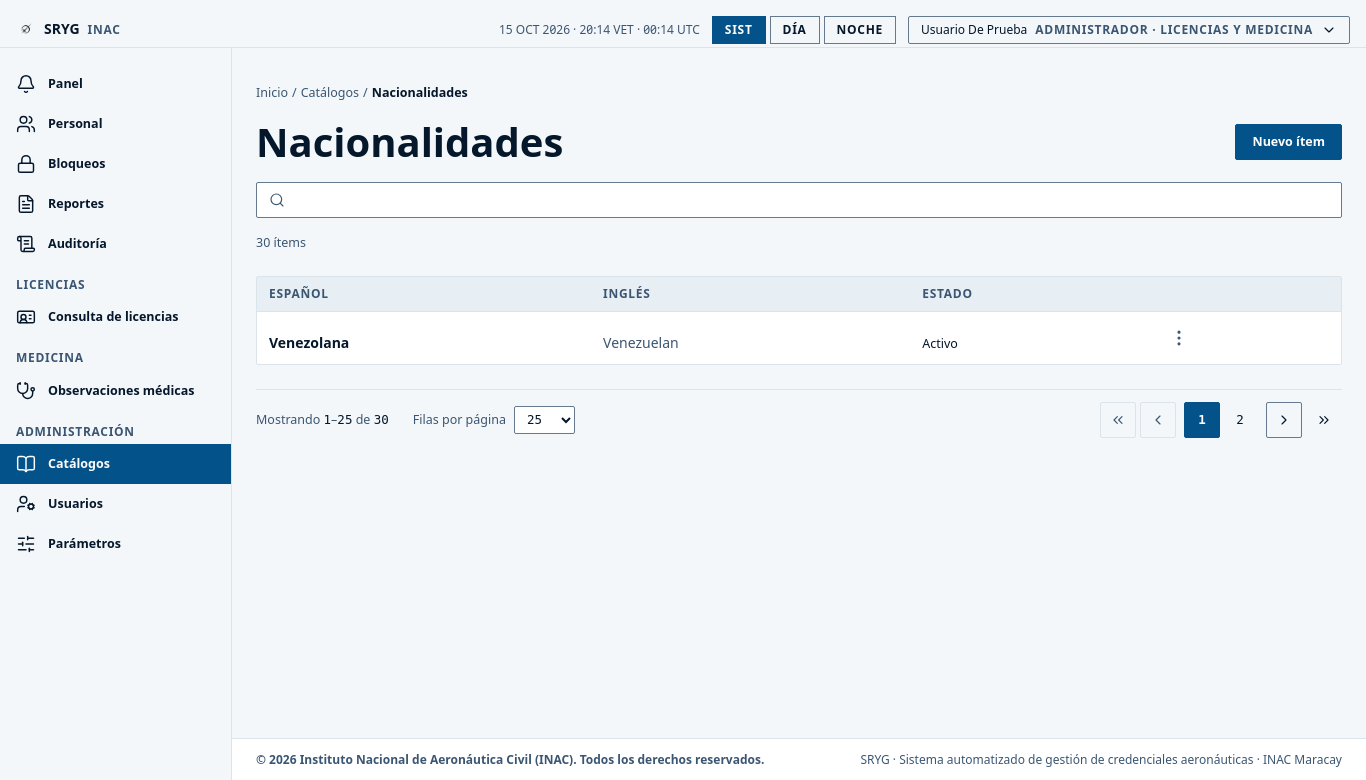
Test: /catalogos/:catalogo (D19) › pages on the server with the range line and a rows-per-page choice
Expected: the navigation bar named "Paginación" shows "Mostrando 1–25 de 30", [256,402,1342,438]
Click the button named "Página siguiente".
click(1284, 420)  # box [1266,402,1302,438]
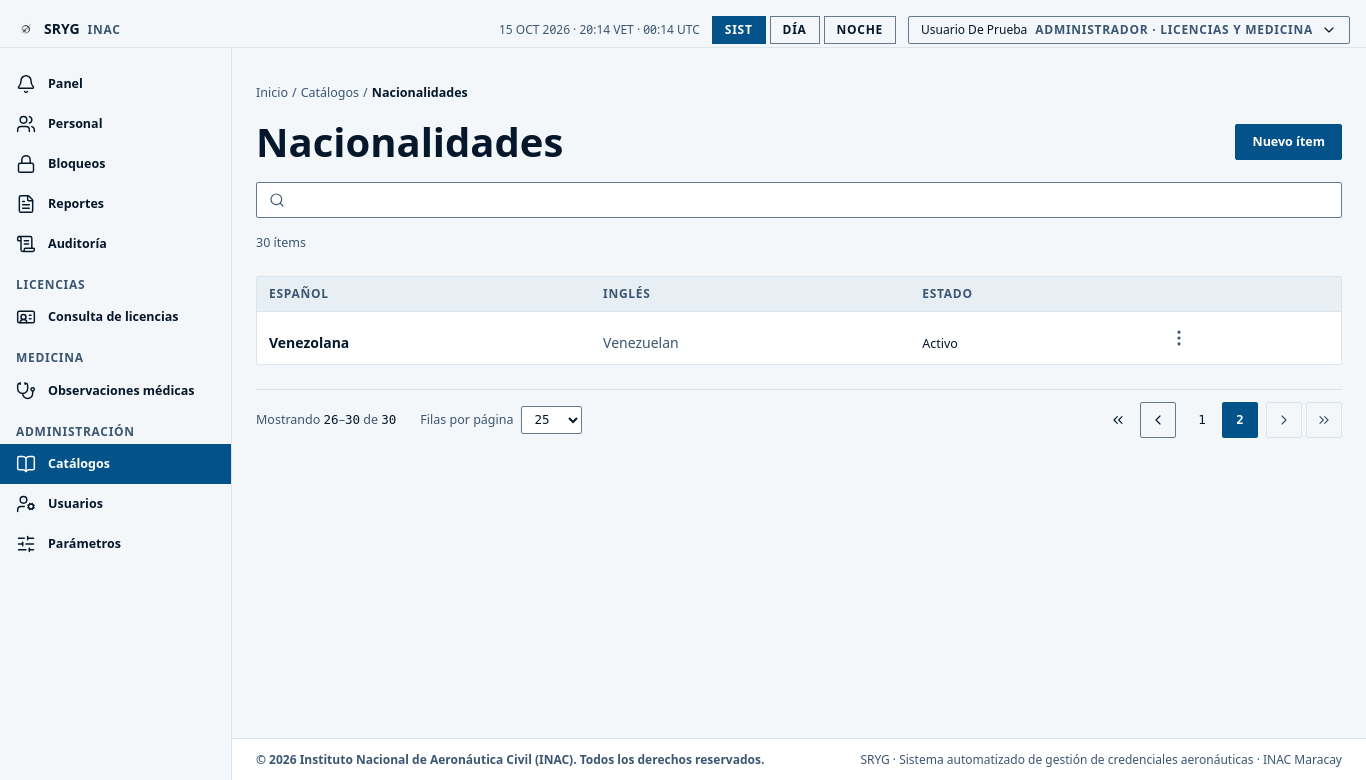
Now the navigation bar named "Paginación" shows "Mostrando 26–30 de 30", box [256,402,1342,438]
Select "10" in the dropdown labelled "Filas por página" at point(552, 420), box [522,406,582,434]
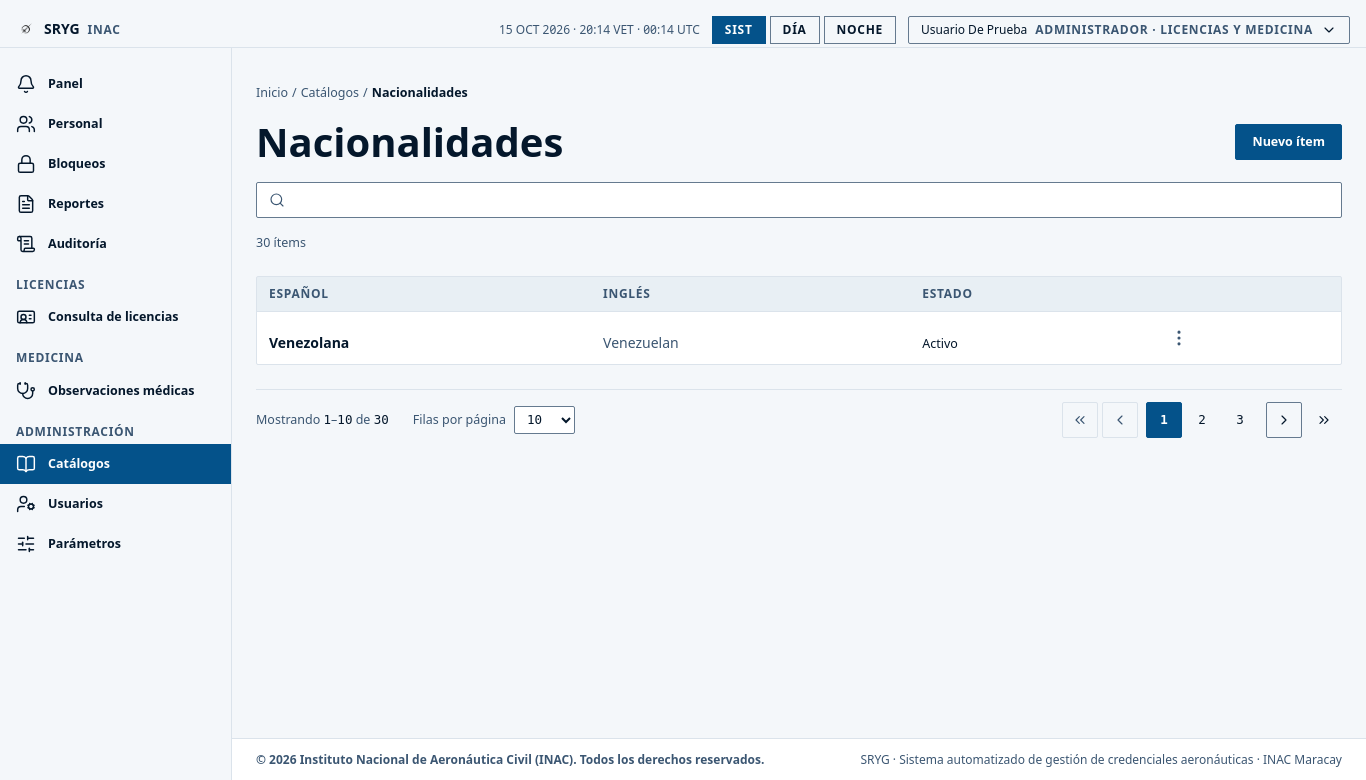
Now the navigation bar named "Paginación" shows "Mostrando 1–10 de 30", box [256,402,1342,438]
